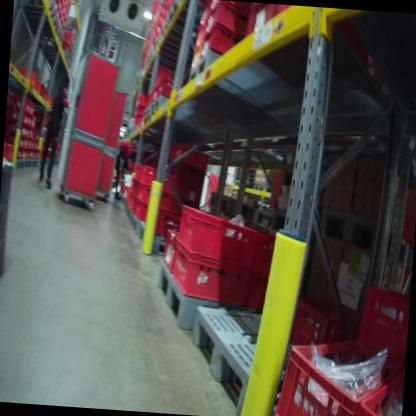pallet: (182, 304, 310, 416), (184, 50, 299, 147), (154, 261, 277, 342), (151, 96, 223, 146), (137, 222, 173, 257), (1, 158, 16, 205), (0, 205, 12, 246), (140, 98, 154, 130), (0, 237, 8, 286), (8, 159, 24, 173), (251, 180, 266, 193), (23, 158, 33, 170), (33, 160, 45, 168)
small_load_carrier: (271, 327, 406, 416), (274, 289, 357, 365), (175, 202, 261, 271), (355, 280, 411, 365), (172, 243, 247, 304), (354, 361, 405, 416), (201, 23, 248, 70), (251, 223, 285, 279), (160, 226, 193, 277), (206, 4, 250, 41), (173, 142, 212, 175), (246, 4, 279, 42), (138, 183, 174, 212), (142, 163, 178, 189), (133, 199, 168, 224), (188, 36, 207, 66), (155, 79, 177, 103), (15, 67, 39, 89), (196, 18, 207, 45), (3, 139, 16, 159), (62, 33, 75, 50), (62, 44, 72, 55)
